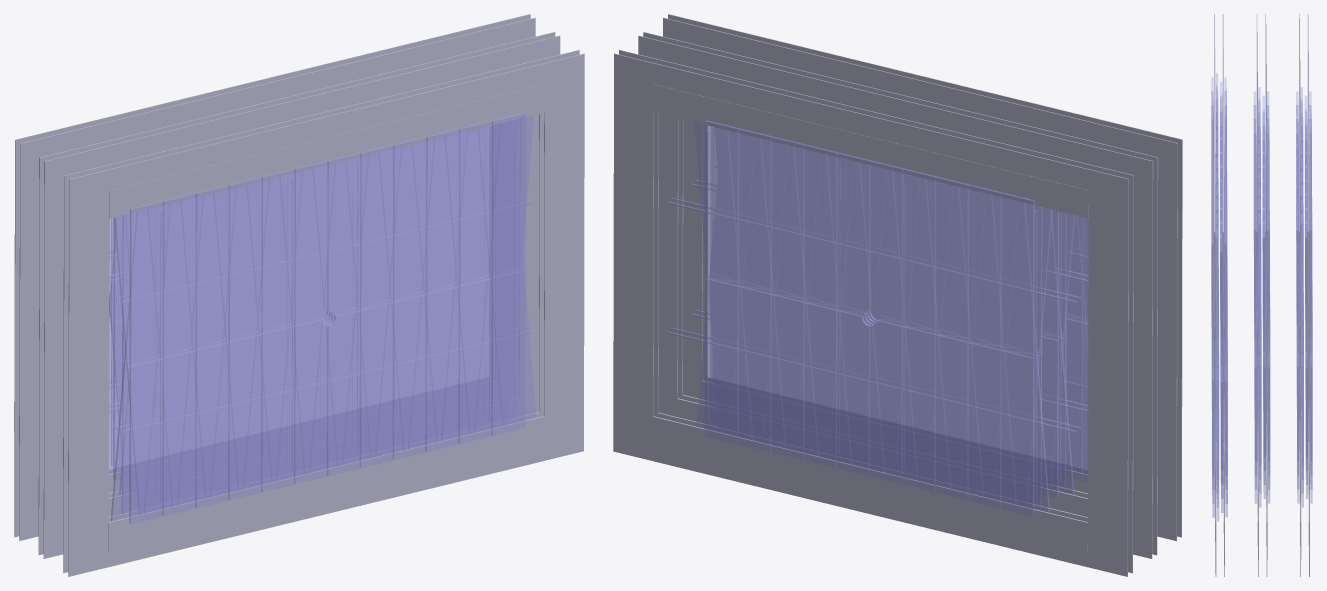
The model's file is LHCb_run3_FT.gltf.
3 renders of one model, left to right at view 1: azimuth 30°, elevation 25°; view 2: azimuth 150°, elevation 25°; view 3: azimuth 270°, elevation 25°, orthographic. The views are drawn at different scales.
Parts seen in each view (by area): view 1: _dd_Geometry_AfterMagnetRegion_T_FT_CFrames_lvCFramePair_pvC (×26), _dd_Geometry_AfterMagnetRegion_T_FT_Layers_lvLayer6X2_pvQuar (×24), _dd_Geometry_AfterMagnetRegion_T_FT_Layers_lvLayer6V_pvQuart (×24), _dd_Geometry_AfterMagnetRegion_T_FT_Layers_lvLayer6U_pvQuart (×2), _dd_Geometry_AfterMagnetRegion_T_FT_Layers_lvLayer5X2_pvQuar (×2), _dd_Geometry_AfterMagnetRegion_T_FT_Layers_lvLayer6X1_pvQuar (×2), _dd_Geometry_AfterMagnetRegion_T_FT_Layers_lvLayer5U_pvQuart, _dd_Geometry_AfterMagnetRegion_T_FT_Layers_lvLayer5V_pvQuart; view 2: _dd_Geometry_AfterMagnetRegion_T_FT_CFrames_lvCFramePair_pvC (×30), _dd_Geometry_AfterMagnetRegion_T_FT_Layers_lvLayer5X1_pvQuar (×22), _dd_Geometry_AfterMagnetRegion_T_FT_Layers_lvLayer5U_pvQuart (×22), _dd_Geometry_AfterMagnetRegion_T_FT_Layers_lvLayer6X1_pvQuar (×3), _dd_Geometry_AfterMagnetRegion_T_FT_Layers_lvLayer5V_pvQuart (×3), _dd_Geometry_AfterMagnetRegion_T_FT_Layers_lvLayer6U_pvQuart (×2); view 3: _dd_Geometry_AfterMagnetRegion_T_FT_CFrames_lvCFramePair_pvC (×24), _dd_Geometry_AfterMagnetRegion_T_FT_Layers_lvLayer5V_pvQuart (×8), _dd_Geometry_AfterMagnetRegion_T_FT_Layers_lvLayer5X1_pvQuar (×8), _dd_Geometry_AfterMagnetRegion_T_FT_Layers_lvLayer5X2_pvQuar (×8), _dd_Geometry_AfterMagnetRegion_T_FT_Layers_lvLayer5U_pvQuart (×8), _dd_Geometry_AfterMagnetRegion_T_FT_Layers_lvLayer6X1_pvQuar (×4), _dd_Geometry_AfterMagnetRegion_T_FT_Layers_lvLayer6X2_pvQuar (×4), _dd_Geometry_AfterMagnetRegion_T_FT_Layers_lvLayer6V_pvQuart (×4), _dd_Geometry_AfterMagnetRegion_T_FT_Layers_lvLayer6U_pvQuart (×4).
Boxes of the visible parts, x1,y1,x2,y2 form: _dd_Geometry_AfterMagnetRegion_T_FT_CFrames_lvCFramePair_pvC (×26): (14,14,584,576); _dd_Geometry_AfterMagnetRegion_T_FT_Layers_lvLayer6X2_pvQuar (×24): (129,112,525,523); _dd_Geometry_AfterMagnetRegion_T_FT_Layers_lvLayer6V_pvQuart (×24): (114,121,536,514); _dd_Geometry_AfterMagnetRegion_T_FT_Layers_lvLayer6U_pvQuart (×2): (111,115,533,521); _dd_Geometry_AfterMagnetRegion_T_FT_Layers_lvLayer5X2_pvQuar (×2): (113,216,124,479); _dd_Geometry_AfterMagnetRegion_T_FT_Layers_lvLayer6X1_pvQuar (×2): (122,214,129,513); _dd_Geometry_AfterMagnetRegion_T_FT_Layers_lvLayer5U_pvQuart: (109,317,118,473); _dd_Geometry_AfterMagnetRegion_T_FT_Layers_lvLayer5V_pvQuart: (109,218,122,322); _dd_Geometry_AfterMagnetRegion_T_FT_CFrames_lvCFramePair_pvC (×30): (613,14,1182,576); _dd_Geometry_AfterMagnetRegion_T_FT_Layers_lvLayer5X1_pvQuar (×22): (705,120,1058,515); _dd_Geometry_AfterMagnetRegion_T_FT_Layers_lvLayer5U_pvQuart (×22): (694,123,1074,512); _dd_Geometry_AfterMagnetRegion_T_FT_Layers_lvLayer6X1_pvQuar (×3): (1066,214,1087,481); _dd_Geometry_AfterMagnetRegion_T_FT_Layers_lvLayer5V_pvQuart (×3): (696,204,1074,431); _dd_Geometry_AfterMagnetRegion_T_FT_Layers_lvLayer6U_pvQuart (×2): (1066,216,1087,473); _dd_Geometry_AfterMagnetRegion_T_FT_CFrames_lvCFramePair_pvC (×24): (1214,14,1309,576); _dd_Geometry_AfterMagnetRegion_T_FT_Layers_lvLayer5V_pvQuart (×8): (1258,199,1303,507); _dd_Geometry_AfterMagnetRegion_T_FT_Layers_lvLayer5X1_pvQuar (×8): (1267,203,1312,503); _dd_Geometry_AfterMagnetRegion_T_FT_Layers_lvLayer5X2_pvQuar (×8): (1254,203,1299,503); _dd_Geometry_AfterMagnetRegion_T_FT_Layers_lvLayer5U_pvQuart (×8): (1262,208,1307,498); _dd_Geometry_AfterMagnetRegion_T_FT_Layers_lvLayer6X1_pvQuar (×4): (1224,216,1227,516); _dd_Geometry_AfterMagnetRegion_T_FT_Layers_lvLayer6X2_pvQuar (×4): (1211,217,1214,517); _dd_Geometry_AfterMagnetRegion_T_FT_Layers_lvLayer6V_pvQuart (×4): (1216,213,1218,521); _dd_Geometry_AfterMagnetRegion_T_FT_Layers_lvLayer6U_pvQuart (×4): (1220,222,1223,512).
Bounding box in the file's own units: 8300 × 6126 × 1636.
